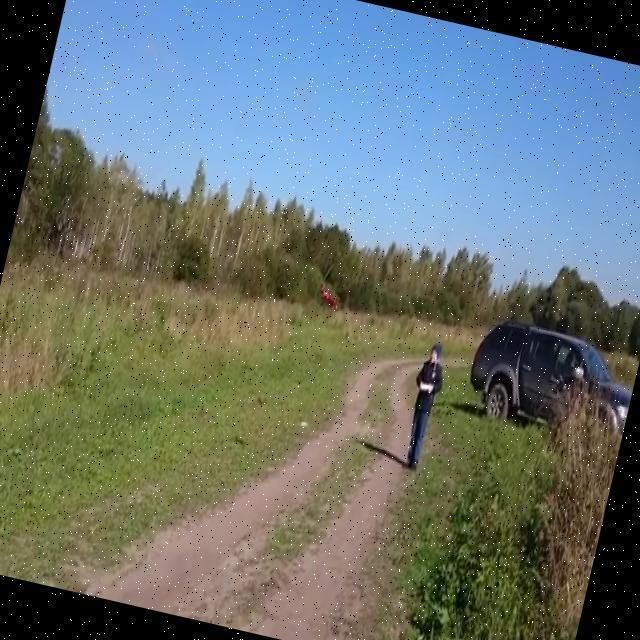Drons: (301, 278, 346, 328)
